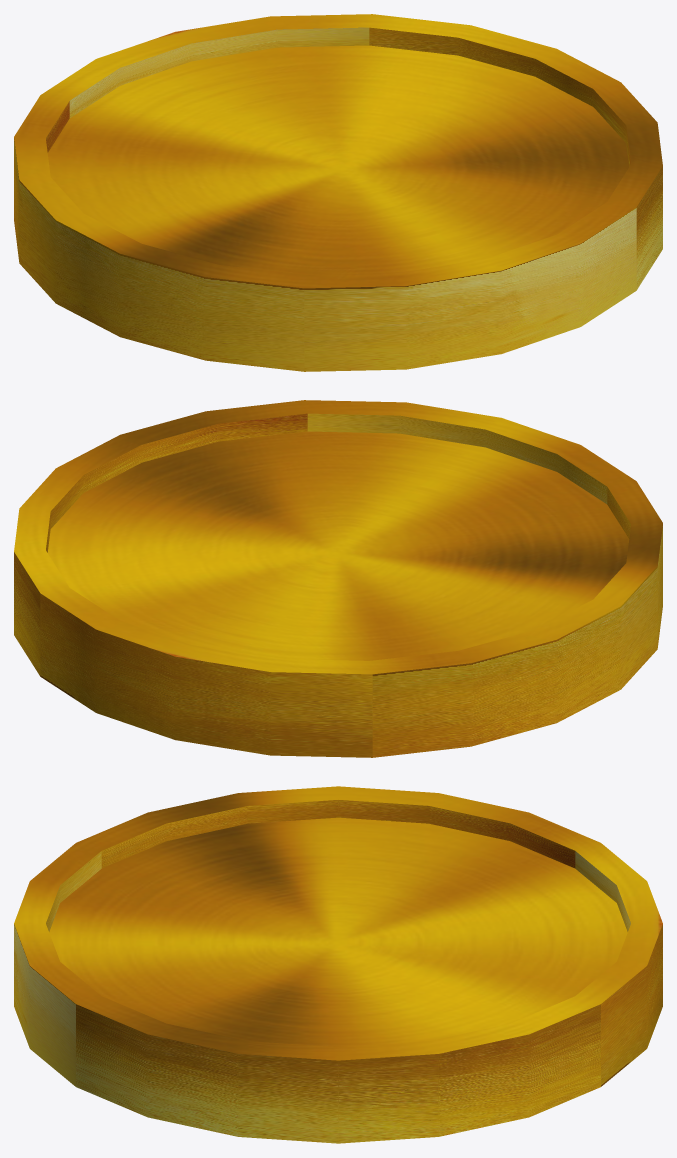
The model's file is Coin.fbx.
3 renders of one model, top to bottom at view 1: azimuth 30°, elevation 25°; view 2: azimuth 150°, elevation 25°; view 3: azimuth 270°, elevation 25°, orthographic.
Visible parts, largest first — view 1: pCylinder1; view 2: pCylinder1; view 3: pCylinder1.
Boxes of the visible parts, <box> form: pCylinder1: <box>14,14,662,371</box>; pCylinder1: <box>14,400,662,757</box>; pCylinder1: <box>14,786,662,1143</box>.
Bounding box in the file's own units: 23.96 × 3.38 × 23.96.
1 material, 1 textured.
